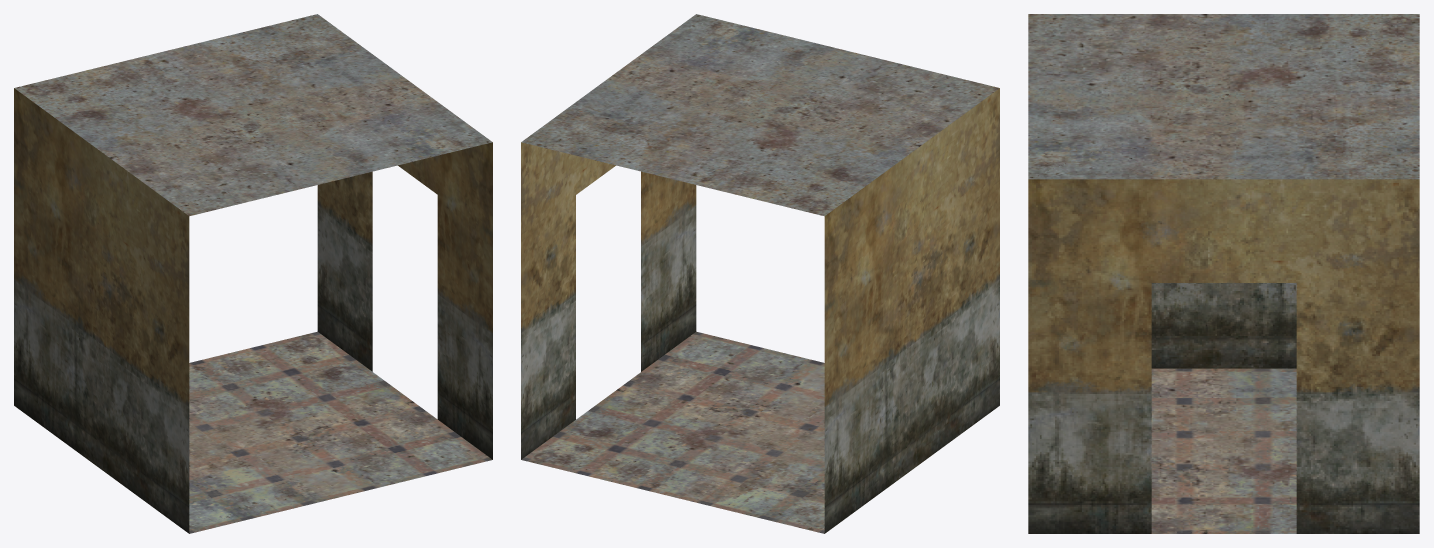
The model's file is _Corridor_part11.FBX.
3 views of the same model, side by side, from view 1: azimuth 30°, elevation 25°; view 2: azimuth 150°, elevation 25°; view 3: azimuth 270°, elevation 25° (orthographic). The views are drawn at different scales.
Parts seen in each view (by area): view 1: Corridor_Part11; view 2: Corridor_Part11; view 3: Corridor_Part11.
Boxes of the visible parts, left/top/right/bottom form: Corridor_Part11: left=14, top=14, right=492, bottom=533; Corridor_Part11: left=521, top=14, right=999, bottom=533; Corridor_Part11: left=1028, top=14, right=1419, bottom=533.
Bounding box in the file's own units: 254 × 254 × 254.
3 materials, 3 textured.
